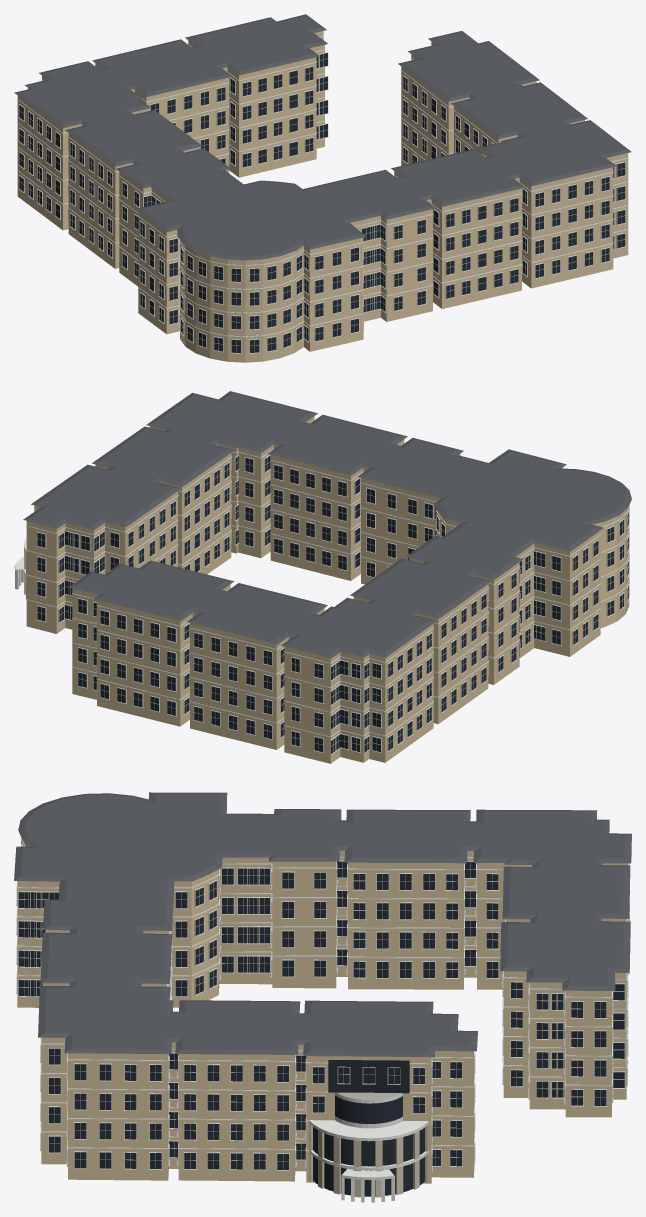
File: vega_hall.glb
The picture shows the model from 3 angles, top to bottom: view 1: azimuth 30°, elevation 25°; view 2: azimuth 150°, elevation 25°; view 3: azimuth 270°, elevation 25°; orthographic projection. The views are drawn at different scales.
Visible parts, largest first — view 1: vega_hall_Roof_Shingle, vega_hall_Wall_beigeStucco, vega_hall_Trim_White, vega_hall_Glass_dark; view 2: vega_hall_Wall_beigeStucco, vega_hall_Roof_Shingle, vega_hall_Trim_White, vega_hall_Glass_dark; view 3: vega_hall_Roof_Shingle, vega_hall_Wall_beigeStucco, vega_hall_Glass_dark, vega_hall_Trim_White, vega_hall_Wall_limestone, vega_hall_Frame_Dark.
Boxes of the visible parts, x1,y1,x2,y2 form: vega_hall_Roof_Shingle: (14,14,631,260); vega_hall_Wall_beigeStucco: (17,31,628,362); vega_hall_Trim_White: (17,35,628,353); vega_hall_Glass_dark: (19,53,625,353); vega_hall_Wall_beigeStucco: (26,416,629,763); vega_hall_Roof_Shingle: (23,391,631,658); vega_hall_Trim_White: (15,420,629,754); vega_hall_Glass_dark: (37,456,628,753); vega_hall_Roof_Shingle: (14,792,631,1057); vega_hall_Wall_beigeStucco: (17,840,628,1183); vega_hall_Glass_dark: (18,861,624,1196); vega_hall_Trim_White: (16,837,630,1202); vega_hall_Wall_limestone: (306,1124,428,1197); vega_hall_Frame_Dark: (328,1060,409,1123).
Bounding box in the file's own units: 105 × 22.08 × 95.5.
